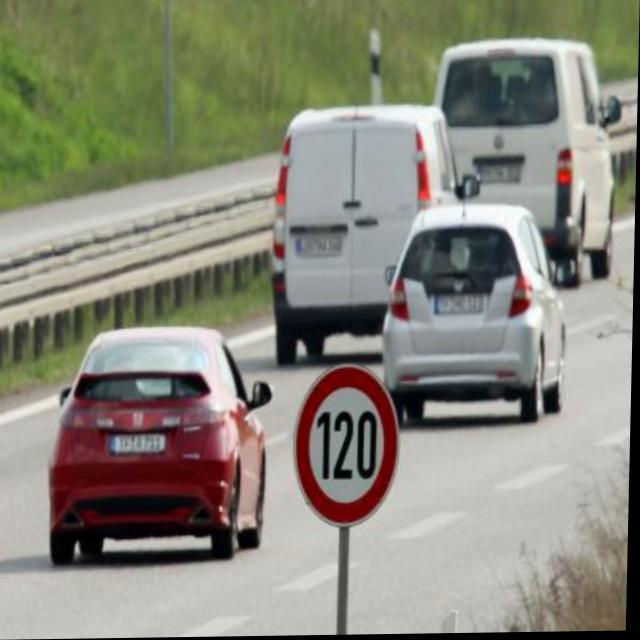limit120: (293, 359, 407, 532)
